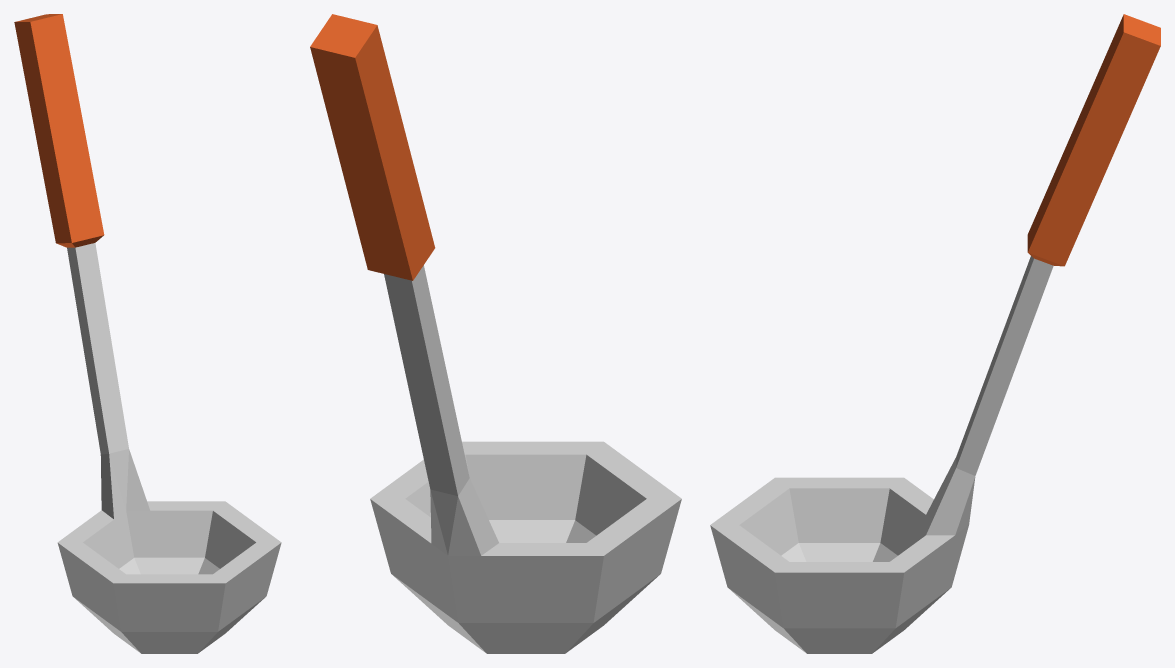
File: ladle3_PLY.fbx
The picture shows the model from 3 angles, left to right: view 1: azimuth 30°, elevation 25°; view 2: azimuth 150°, elevation 25°; view 3: azimuth 270°, elevation 25°; orthographic projection. The views are drawn at different scales.
Visible parts, largest first — view 1: ladle3_PLY; view 2: ladle3_PLY; view 3: ladle3_PLY.
Boxes of the visible parts, bbox=[...] form: ladle3_PLY: bbox=[14, 14, 281, 653]; ladle3_PLY: bbox=[310, 14, 681, 653]; ladle3_PLY: bbox=[710, 14, 1160, 653].
Bounding box in the file's own units: 0.433 × 1.33 × 0.8703.
